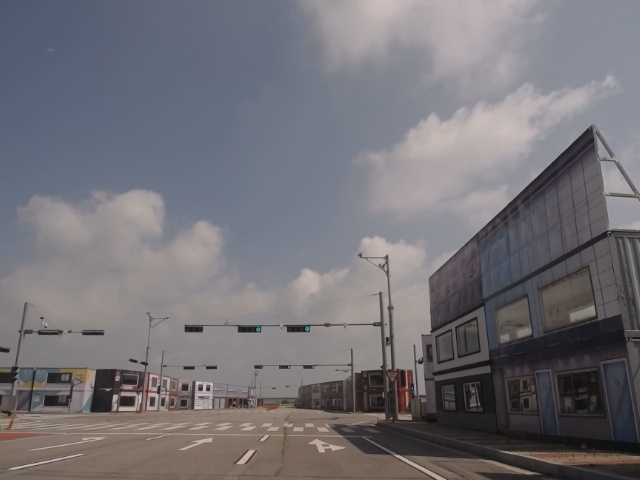straight_green_4: (287, 324, 311, 333), (239, 325, 262, 334)
